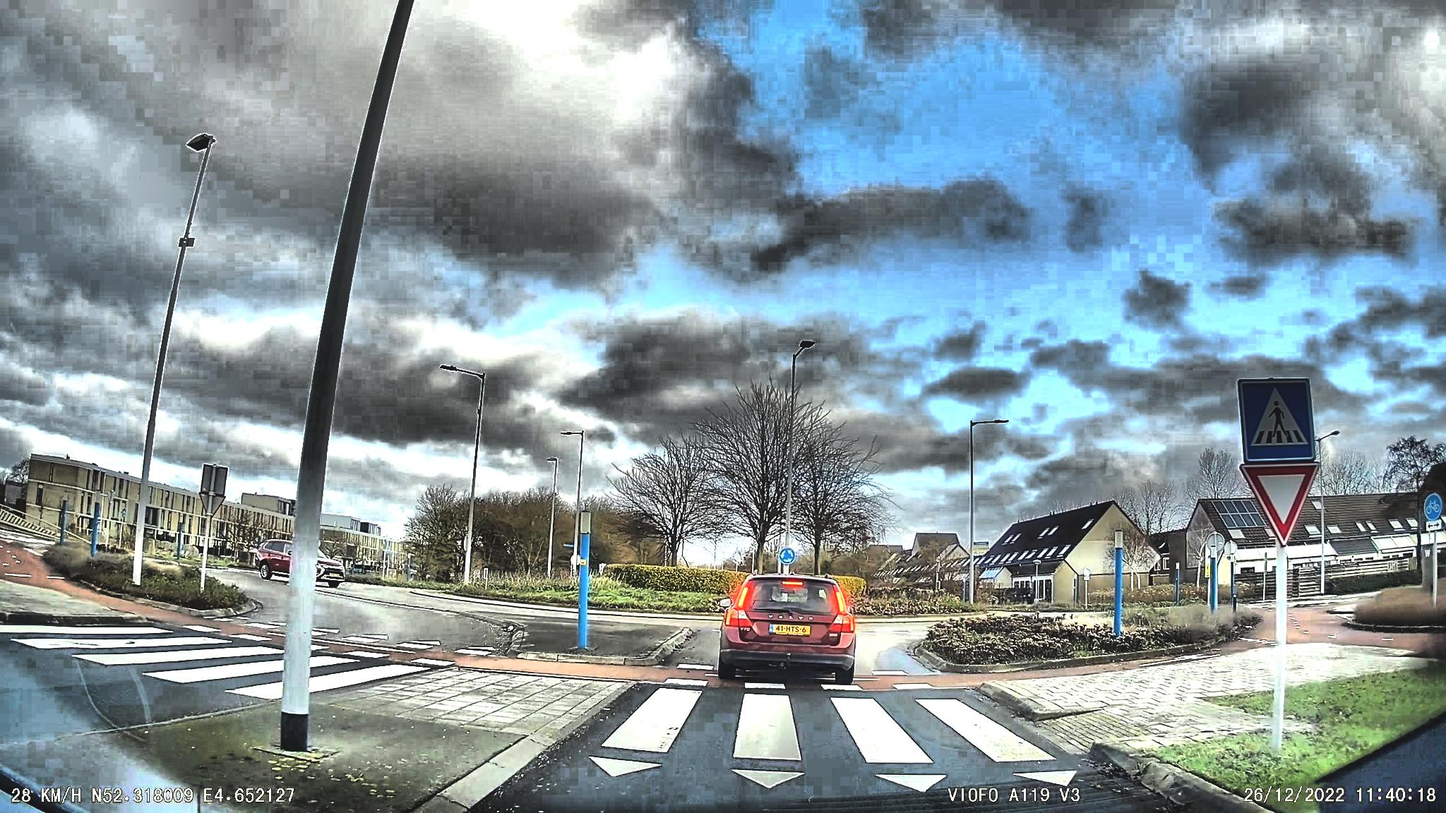Roads: (465, 619, 1182, 813)
